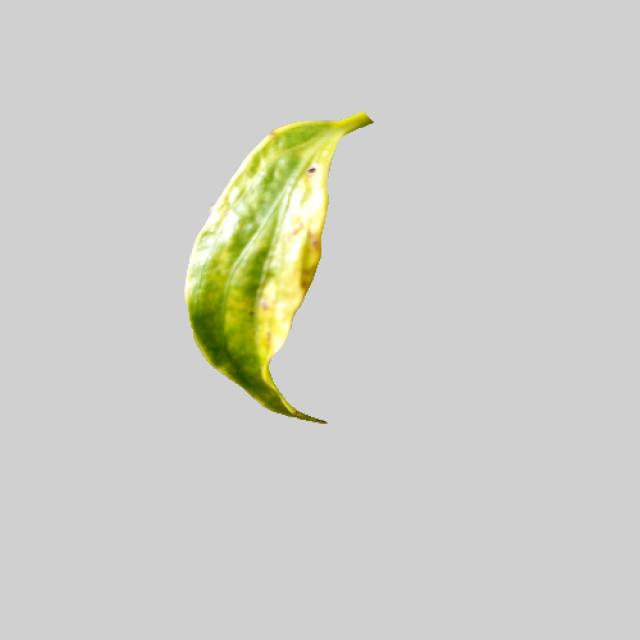yellow-mottle-virus: (181, 110, 375, 422)
